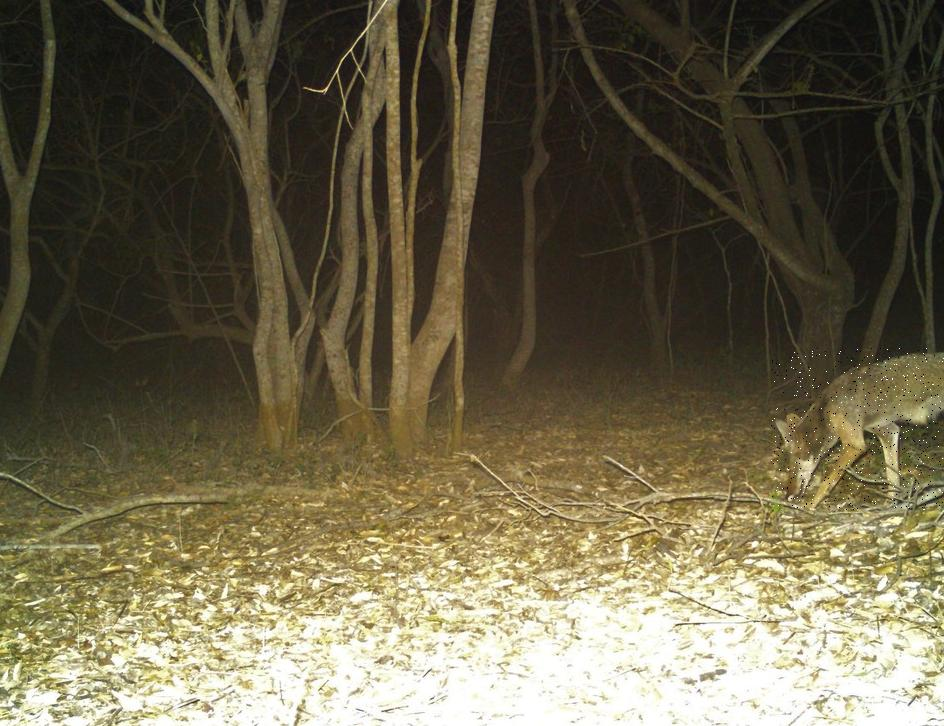Coyote: (771, 348, 944, 510)
